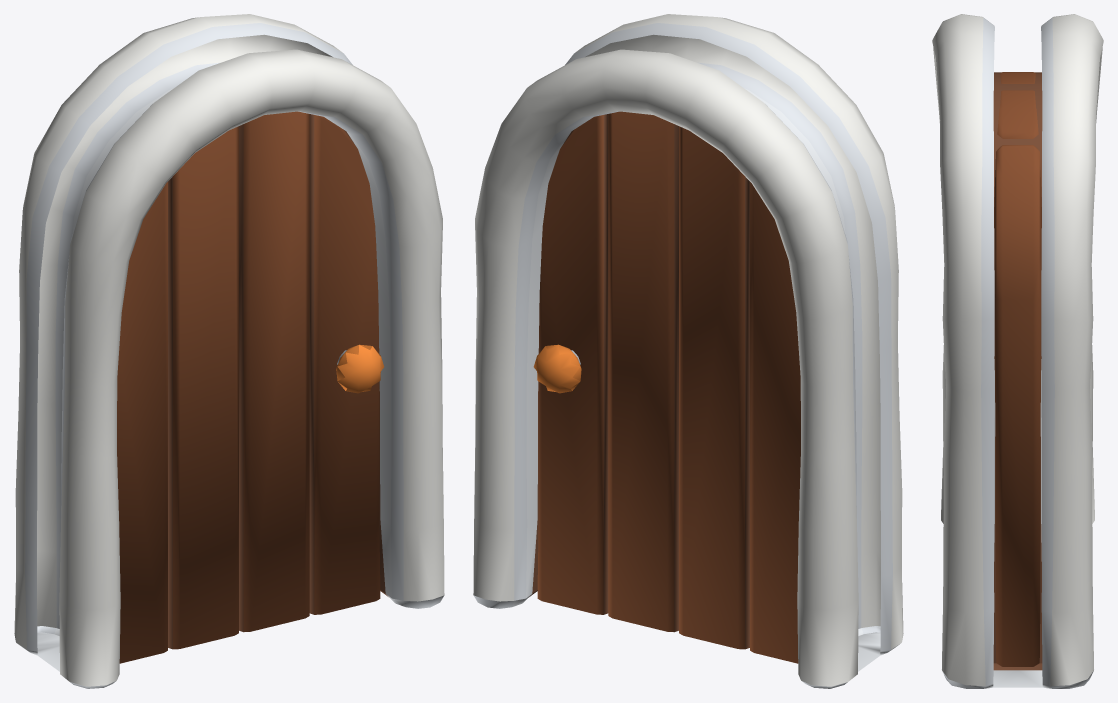
Rendered from portal_natal_porta_biscoito_pacote.glb.
The picture shows the model from 3 angles, left to right: view 1: azimuth 30°, elevation 25°; view 2: azimuth 150°, elevation 25°; view 3: azimuth 270°, elevation 25°; orthographic projection. The views are drawn at different scales.
Parts seen in each view (by area): view 1: porta, colisao_malha; view 2: porta, colisao_malha; view 3: colisao_malha, porta.
Boxes of the visible parts, x1=… form: porta: x1=117, y1=111, x2=384, y2=663; colisao_malha: x1=14, y1=14, x2=444, y2=688; porta: x1=533, y1=111, x2=800, y2=663; colisao_malha: x1=473, y1=14, x2=903, y2=688; colisao_malha: x1=932, y1=14, x2=1103, y2=688; porta: x1=994, y1=72, x2=1041, y2=666.
Size of the model in its own units: 1.47 by 2.2 by 0.5986.
Materials: 1 (1 with a texture image).
